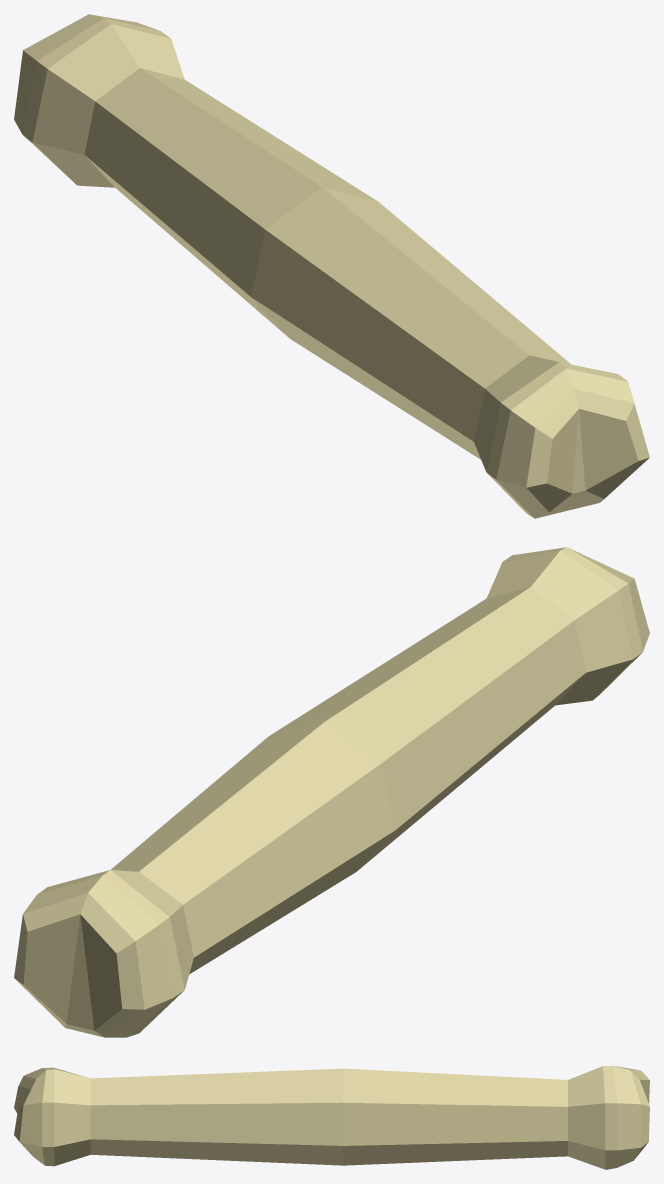
The model's file is F_Bone_A.fbx.
3 renders of one model, top to bottom at view 1: azimuth 30°, elevation 25°; view 2: azimuth 150°, elevation 25°; view 3: azimuth 270°, elevation 25°, orthographic. The views are drawn at different scales.
Visible parts, largest first — view 1: F_Bone_A; view 2: F_Bone_A; view 3: F_Bone_A.
Part boxes in pixels (bbox=[...]): F_Bone_A: bbox=[14, 14, 649, 518]; F_Bone_A: bbox=[14, 547, 649, 1037]; F_Bone_A: bbox=[14, 1066, 649, 1169].
Size of the model in its own units: 11.2 by 10.81 by 65.85.
